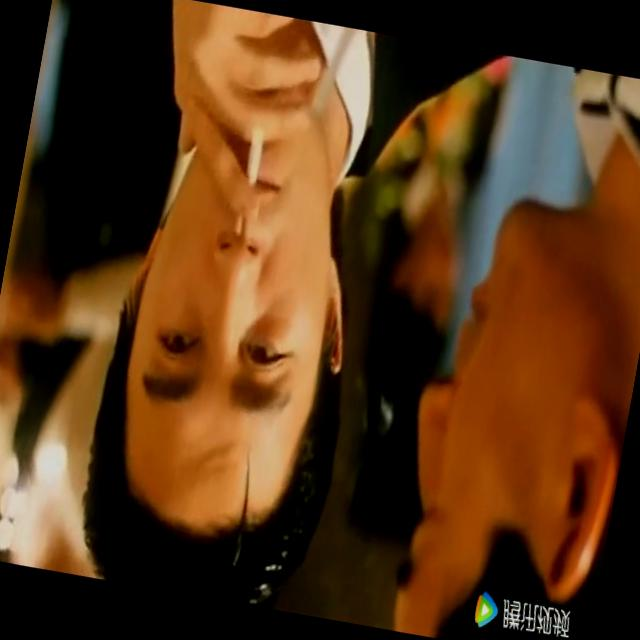cigarette: (241, 125, 268, 179)
